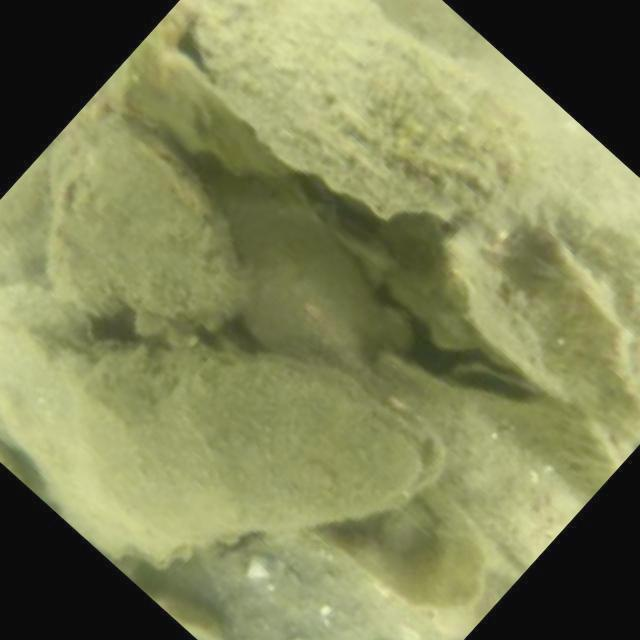Oyster-Closed: (182, 0, 602, 243), (53, 342, 447, 555), (377, 356, 596, 562), (43, 111, 248, 328), (0, 268, 124, 565), (225, 176, 375, 373), (578, 222, 640, 382)
Oyster-Open: (447, 361, 545, 405)
